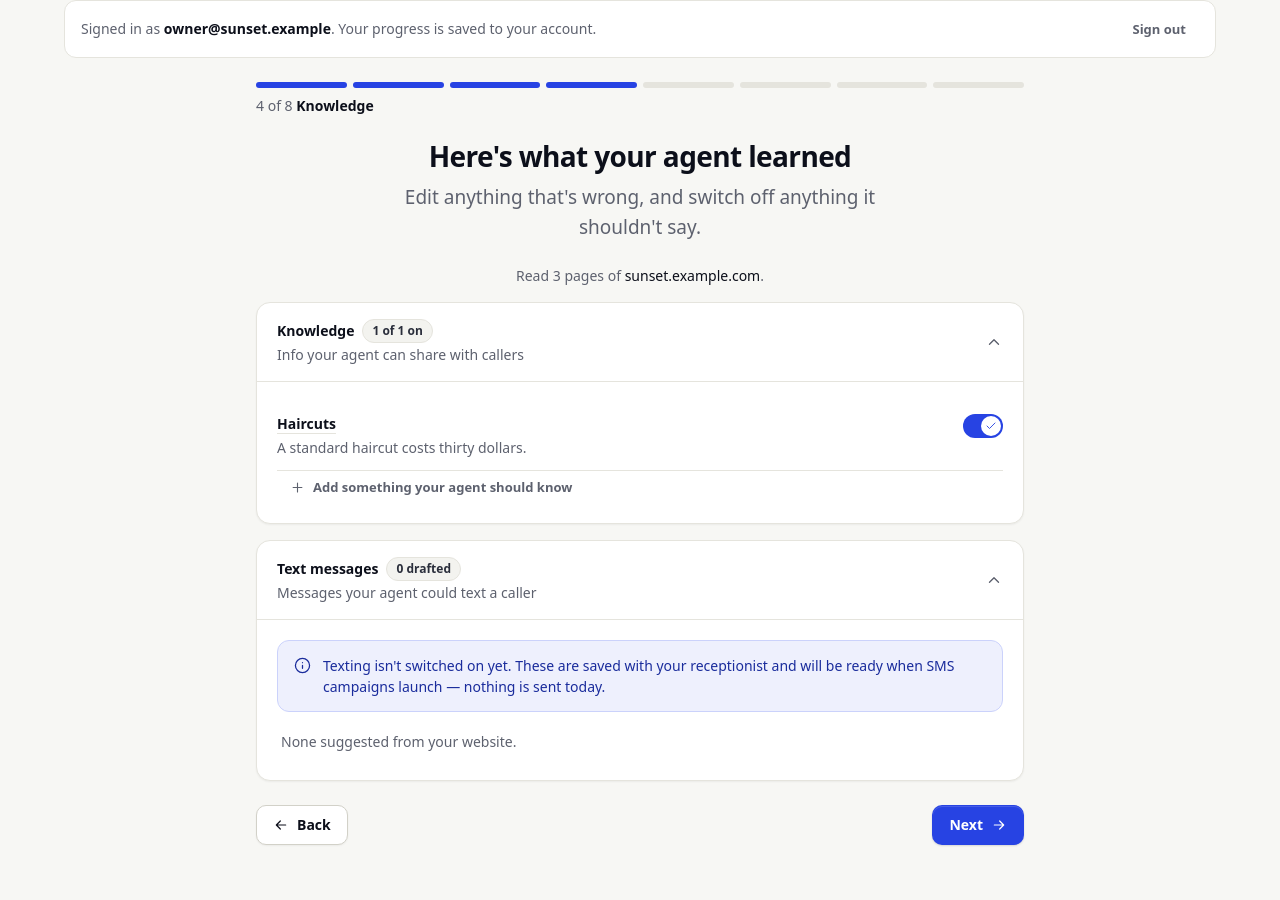
Test: getting back out of the website flow › saves nothing while the customer walks through the review
This screenshot has width=1280, height=900.
Expected: the heading "Here's what your agent learned" is shown, [429,137,851,175]
What coordinates should you click on to do the following:
click the button "Next"
I would click on:
 (978, 825)
Its box is [932,805,1024,845].
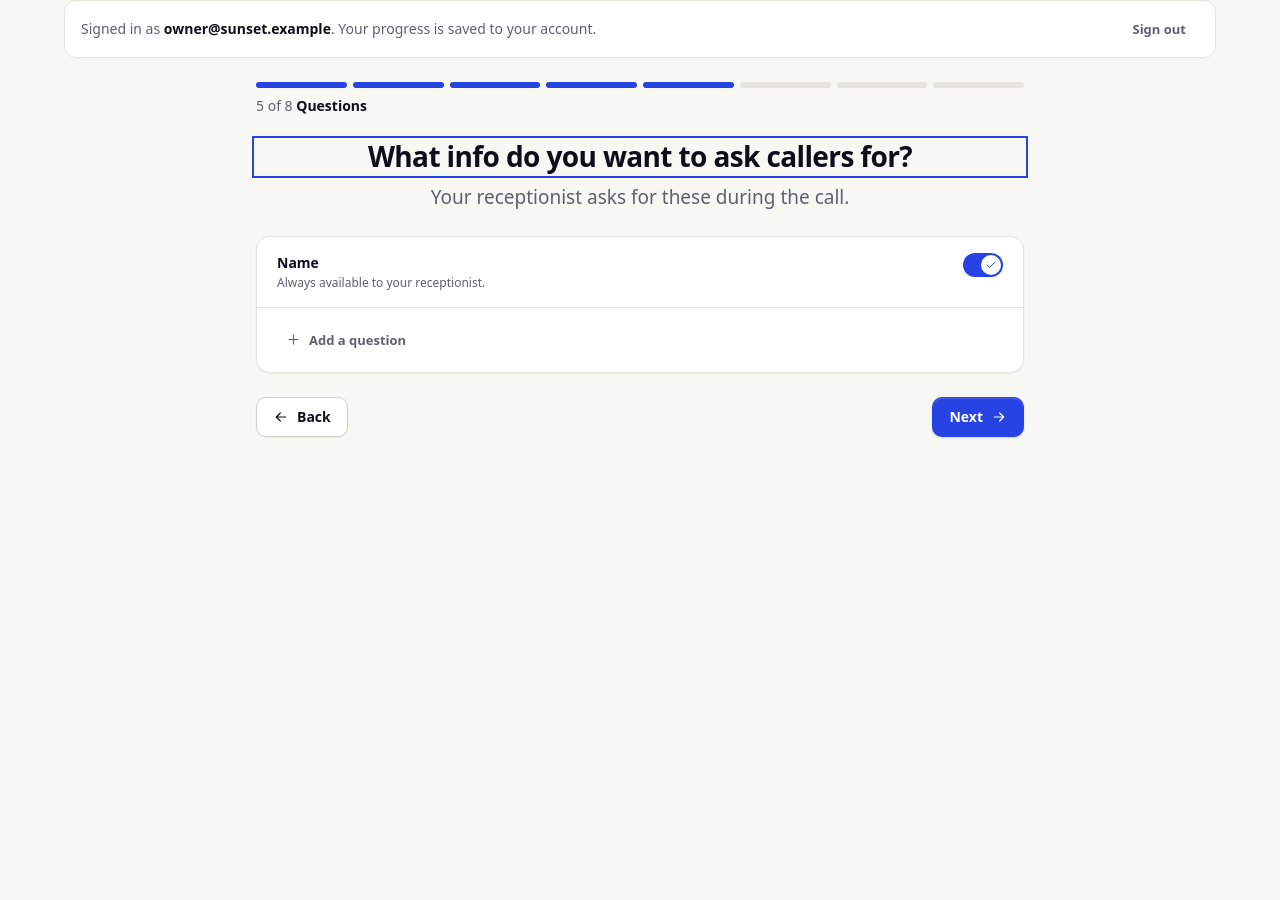
Now the heading "What info do you want to ask callers for?" is shown, box [368,137,912,175]
